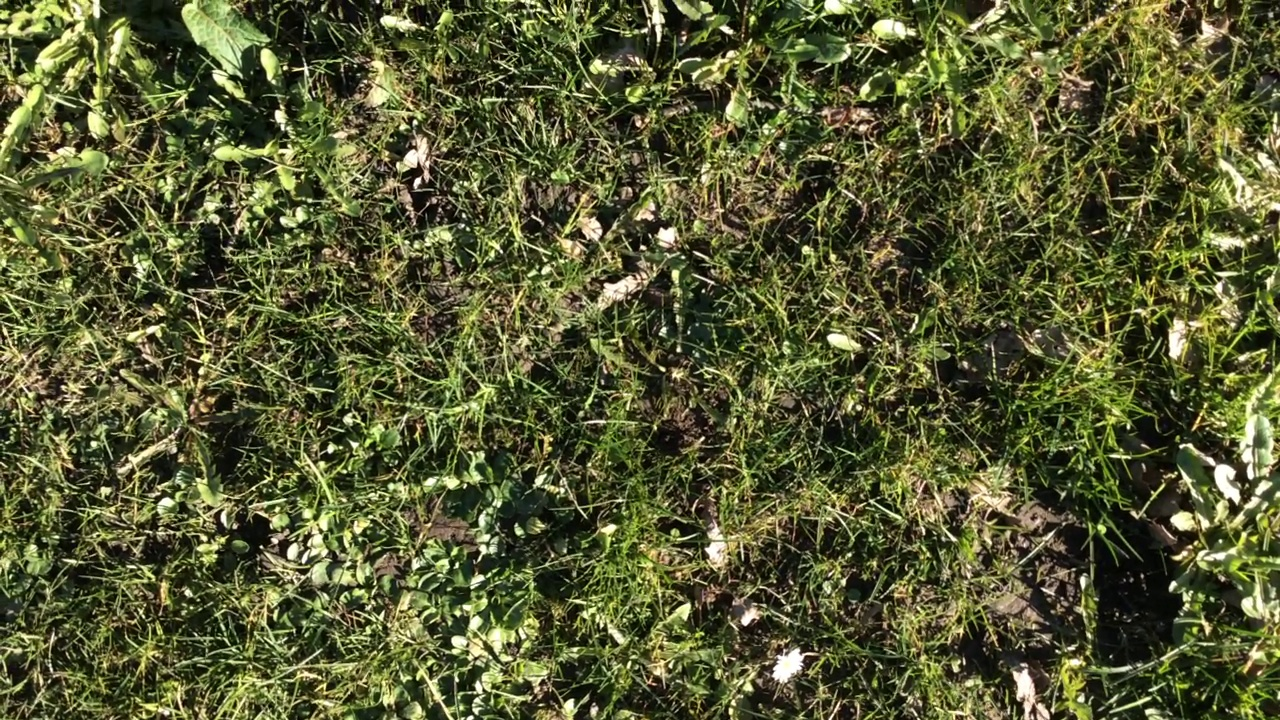rumex: (180, 1, 266, 74)
